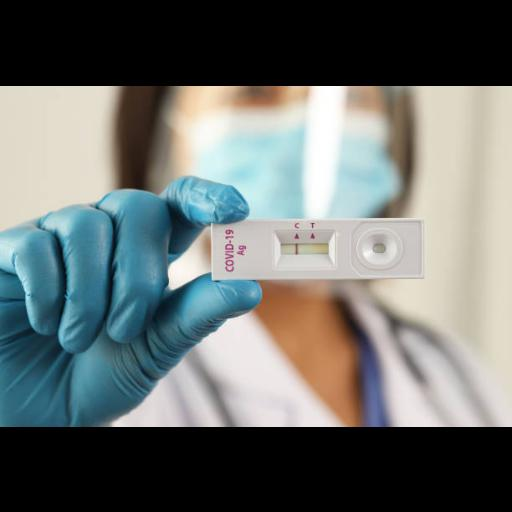Neg: (212, 216, 424, 276)
